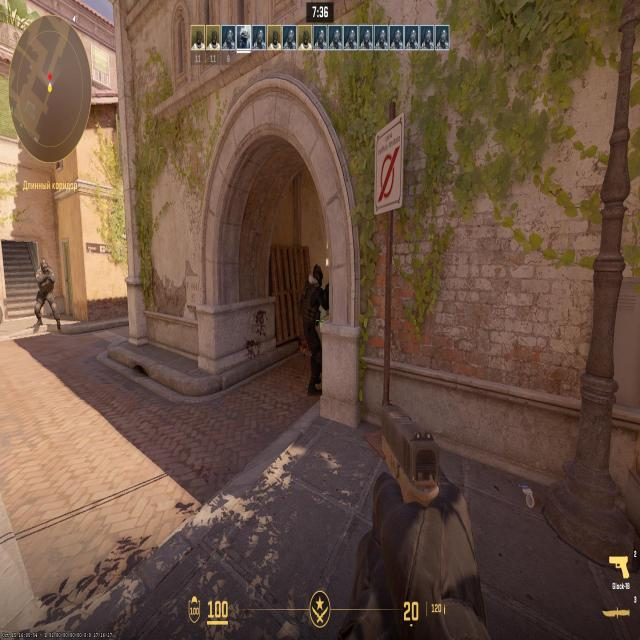CT: (303, 266, 324, 385), (36, 258, 54, 324)
CT_heat: (312, 268, 322, 284), (40, 261, 46, 275)
